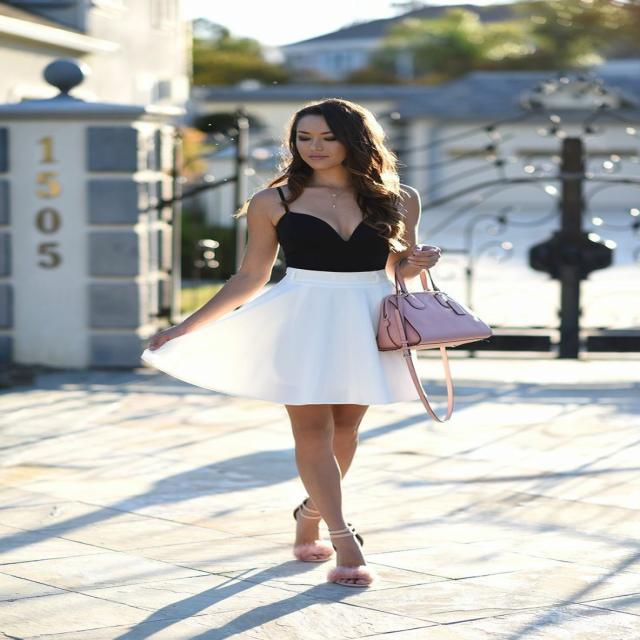female-dress: (190, 188, 438, 416)
